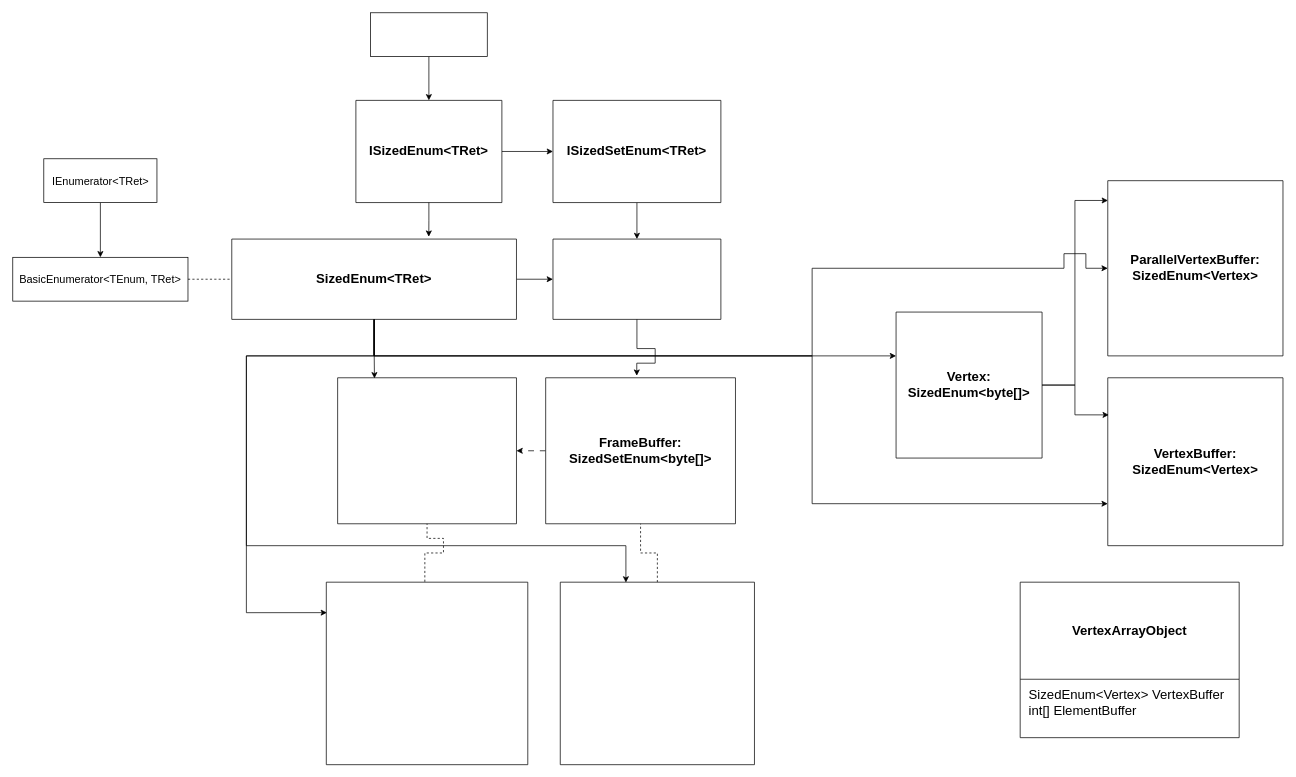
Some shapes in this 1296 by 777 pixel diagram are drawn without their labels. The centre of each missing label's shape, as x and y in pixels:
FrameBuffer2D: SizedEnum<FrameBuffer>: the point at 426,450
IEnumerable<TRet>: the point at 428,34
SizedSetEnum<TRet>: the point at 636,278
TextureBuffer1d: SizedEnum<byte[]>: the point at 657,673
TextureBuffer2d: SizedEnum<FrameBuffer>: the point at 427,673
